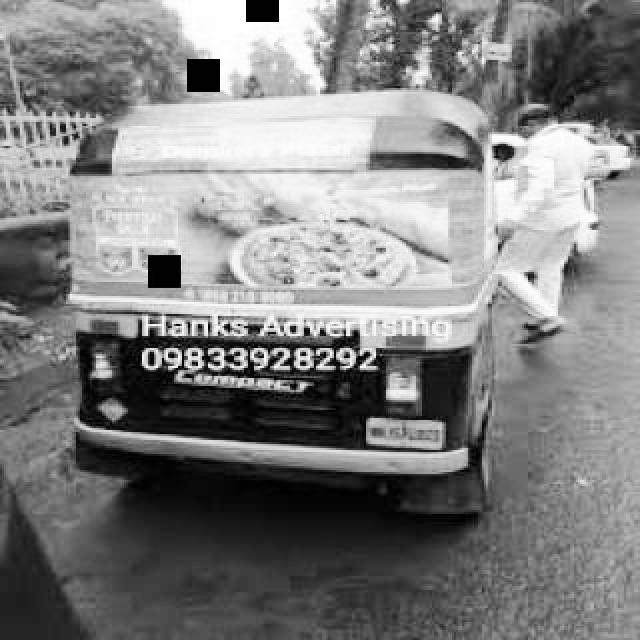Auto-Rickshaw: (60, 94, 504, 542)
